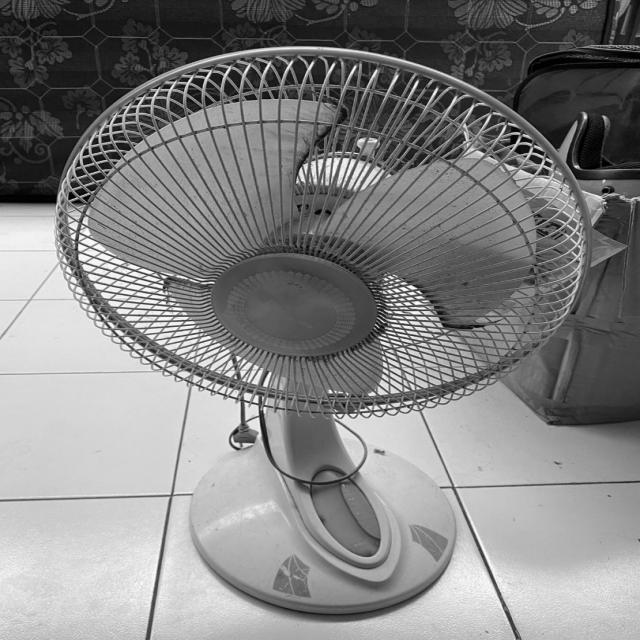fan: (42, 44, 596, 418)
